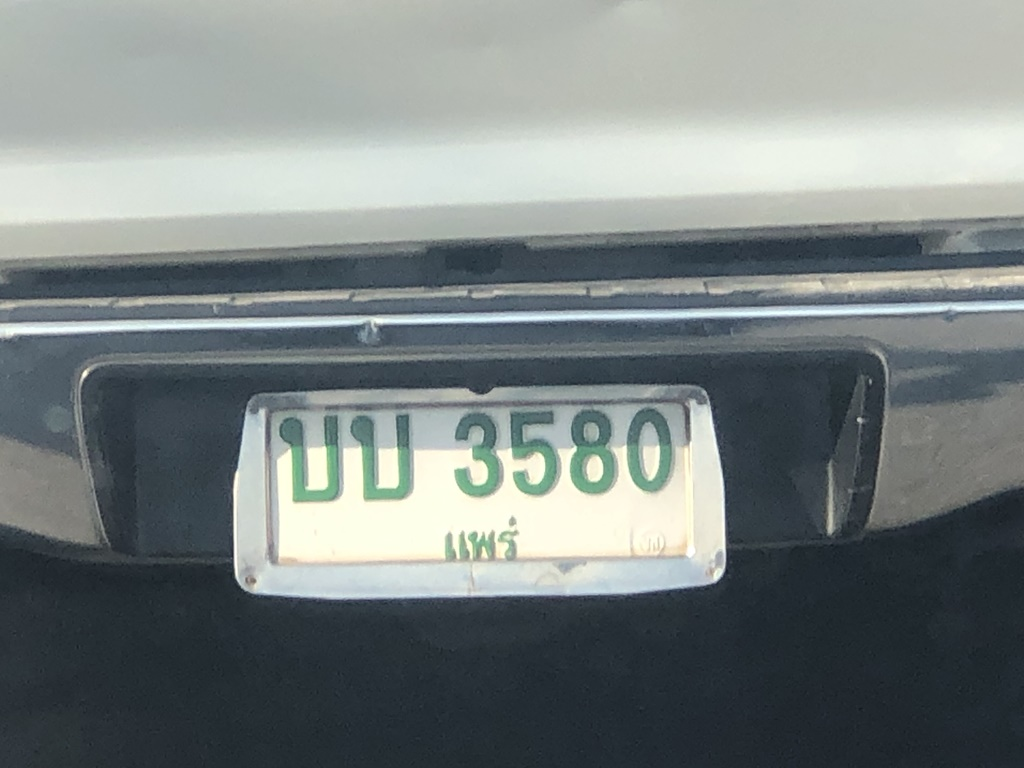eight: (558, 393, 625, 507)
five: (502, 405, 565, 504)
three: (442, 405, 507, 504)
zero: (621, 396, 683, 504)
